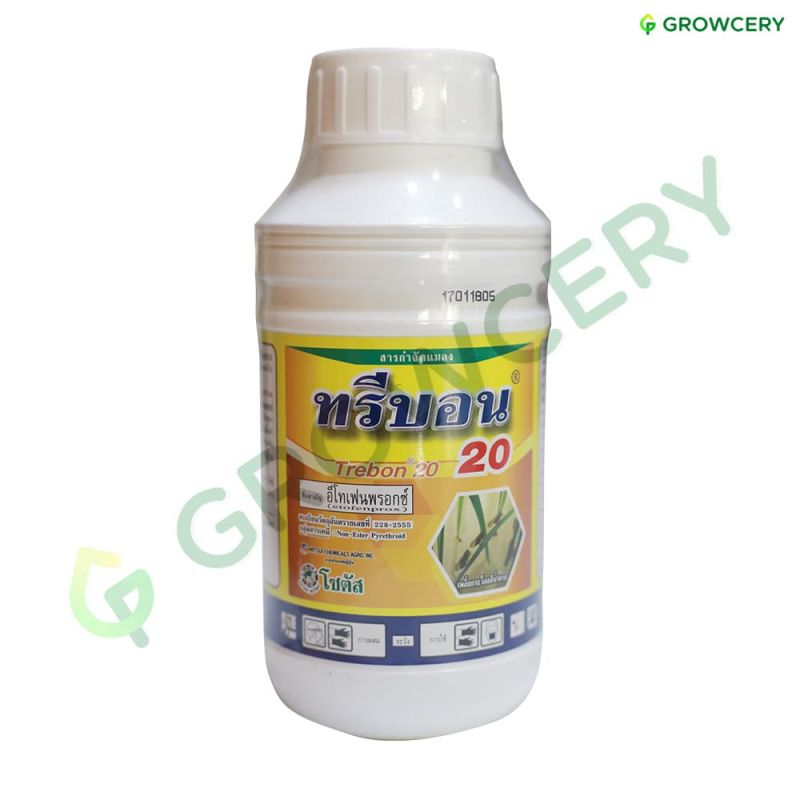Insecticide: (246, 42, 556, 751)
